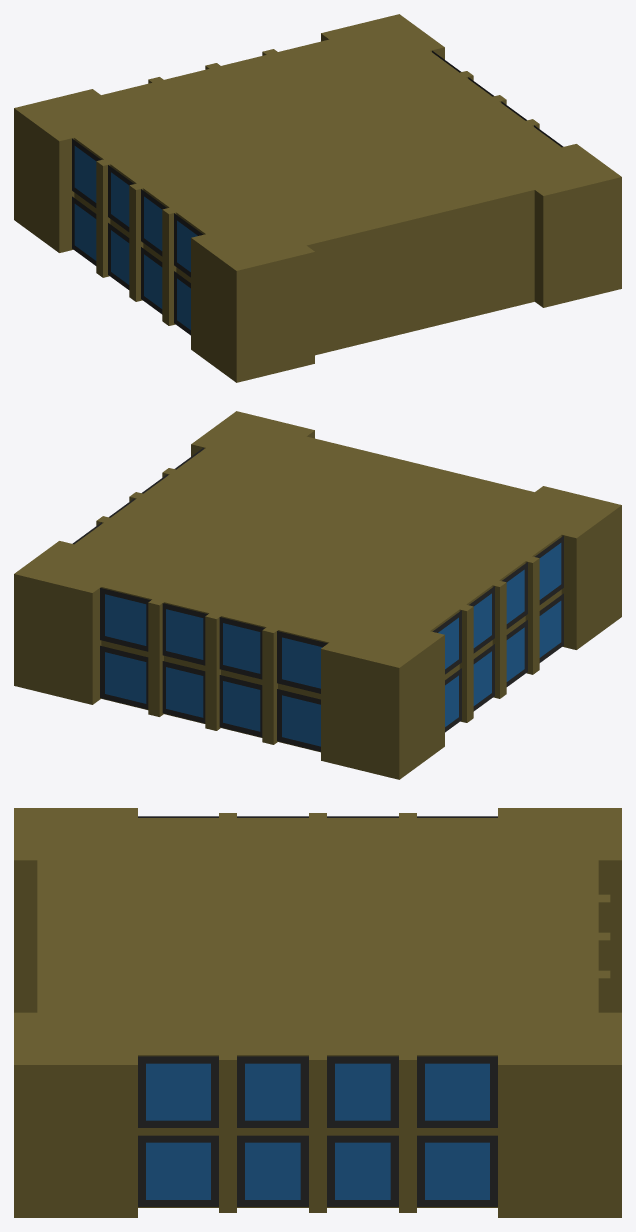
The model's file is tower_base_top.FBX.
3 views of the same model, one above another, from view 1: azimuth 30°, elevation 25°; view 2: azimuth 150°, elevation 25°; view 3: azimuth 270°, elevation 25° (orthographic). The views are drawn at different scales.
Parts seen in each view (by area): view 1: tower_base_top; view 2: tower_base_top; view 3: tower_base_top.
Part boxes in pixels (box(x1,y1,x2,y2)): tower_base_top: box(14, 14, 621, 382); tower_base_top: box(14, 411, 621, 779); tower_base_top: box(14, 808, 621, 1217).
Size of the model in its own units: 27432 by 7612 by 27432.
